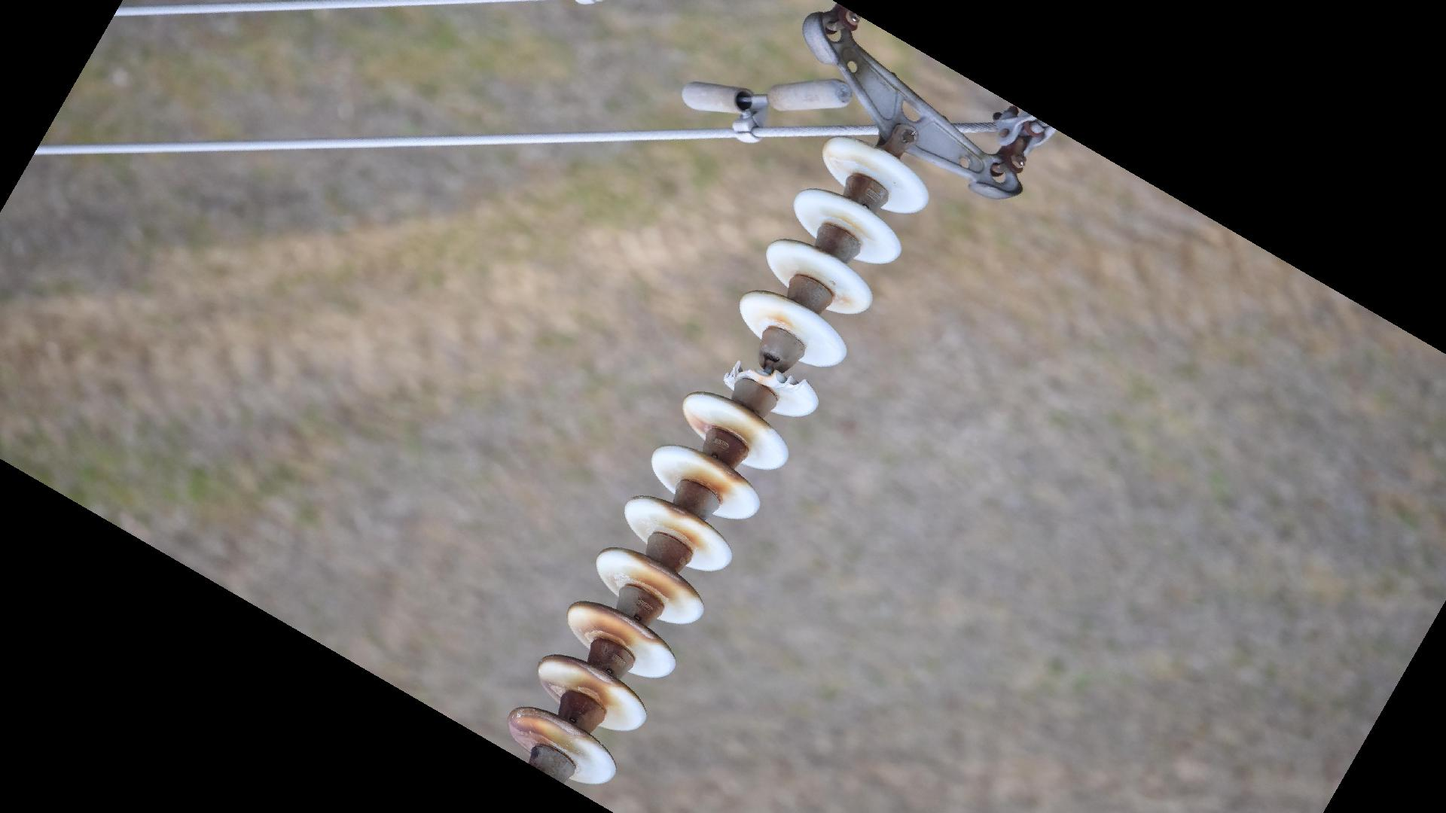insulator: (502, 125, 938, 792)
insulator_breakage: (716, 355, 813, 391)
